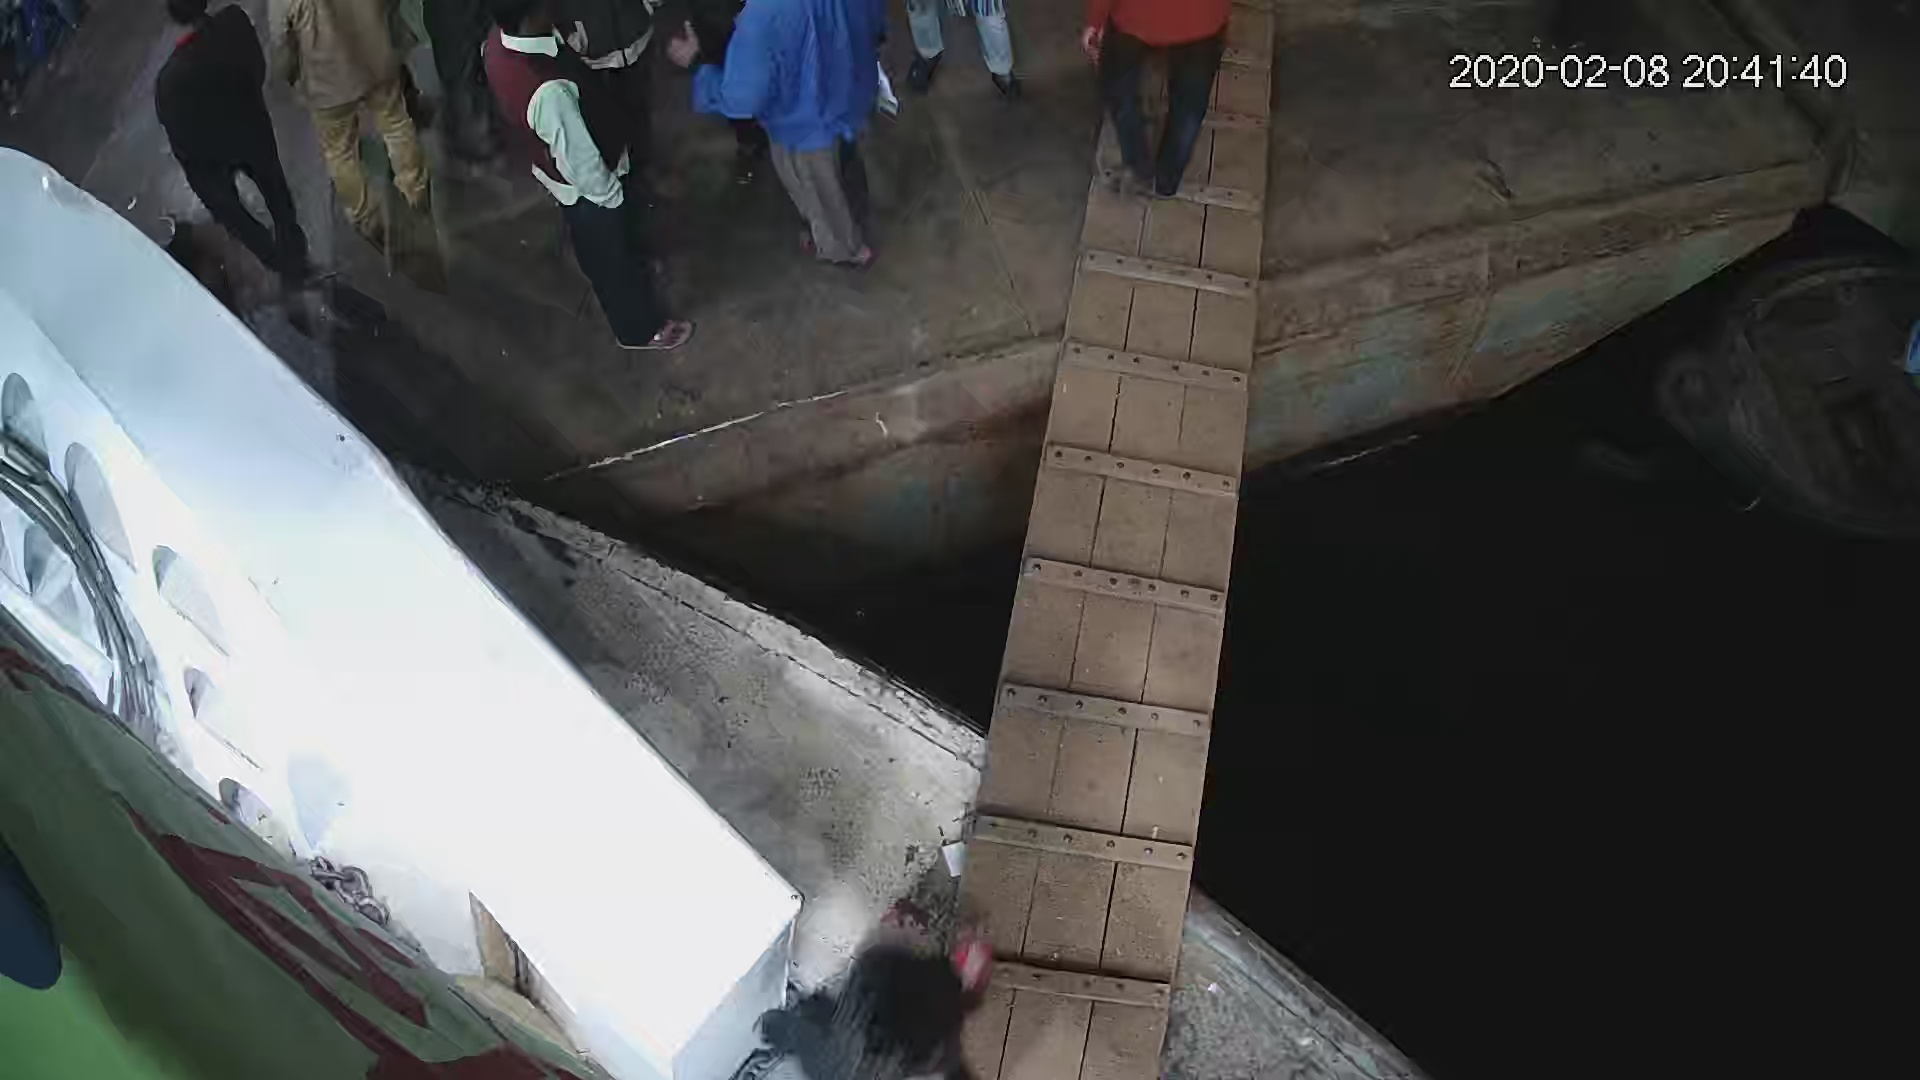person: (477, 13, 700, 365), (710, 1, 894, 278), (162, 1, 310, 280), (281, 1, 438, 241)
